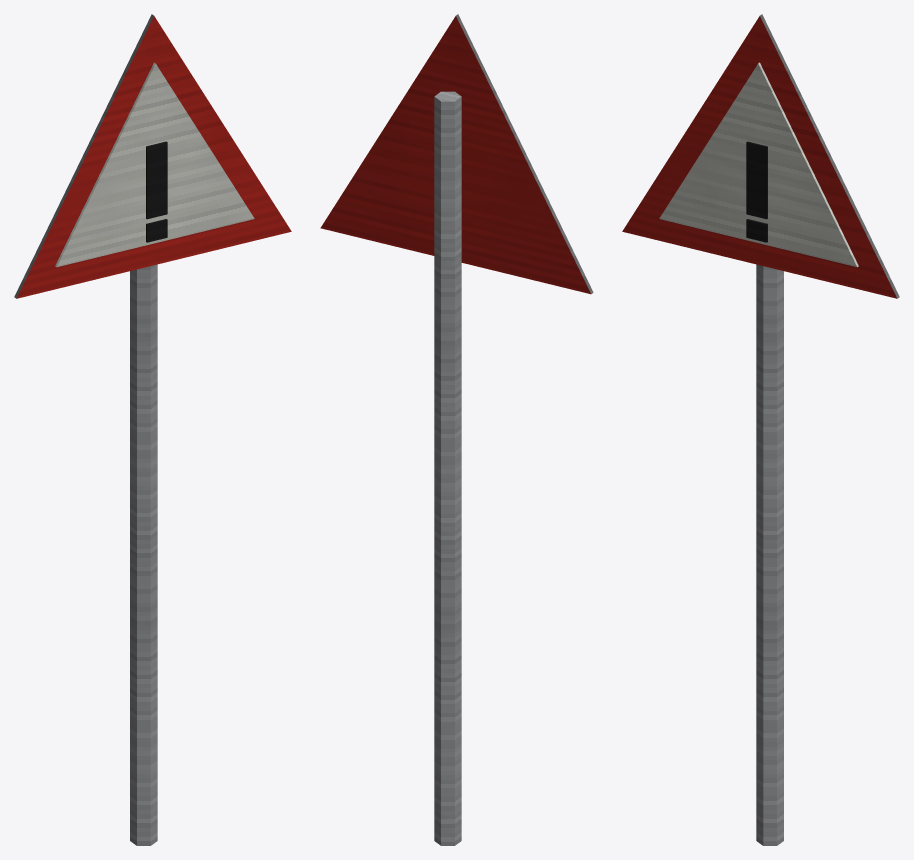
Rendered from placa_atencao.glb.
3 views of the same model, side by side, from view 1: azimuth 30°, elevation 25°; view 2: azimuth 150°, elevation 25°; view 3: azimuth 330°, elevation 25° (orthographic).
Visible parts, largest first — view 1: Inteiro, Peca_01; view 2: Inteiro; view 3: Inteiro, Peca_01.
Boxes of the visible parts, x1,y1,x2,y2 form: Inteiro: [14, 14, 288, 845]; Peca_01: [56, 61, 291, 282]; Inteiro: [320, 14, 593, 845]; Inteiro: [624, 14, 899, 845]; Peca_01: [622, 56, 847, 281].
Bounding box in the file's own units: 0.8 × 2.31 × 0.103.
1 material, 1 textured.
